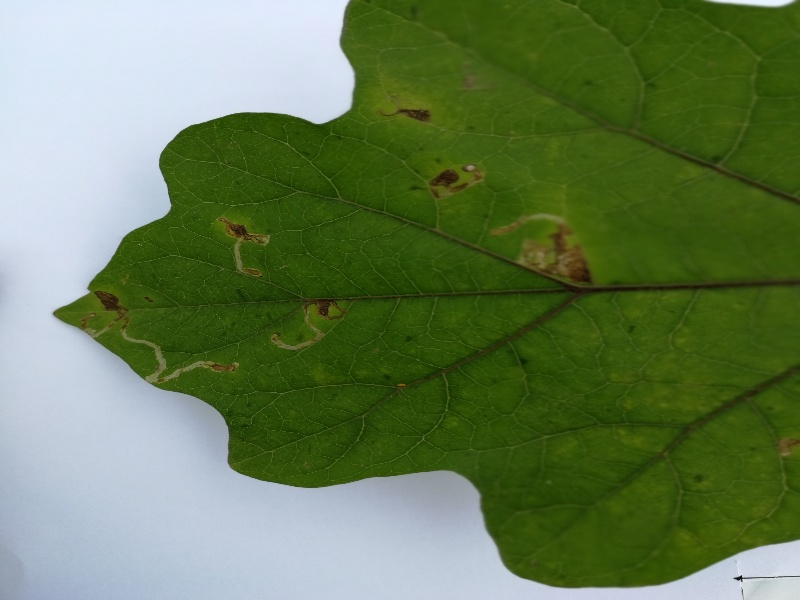leafminer: (79, 292, 238, 381), (482, 209, 601, 297), (264, 293, 358, 357), (212, 215, 276, 284)
